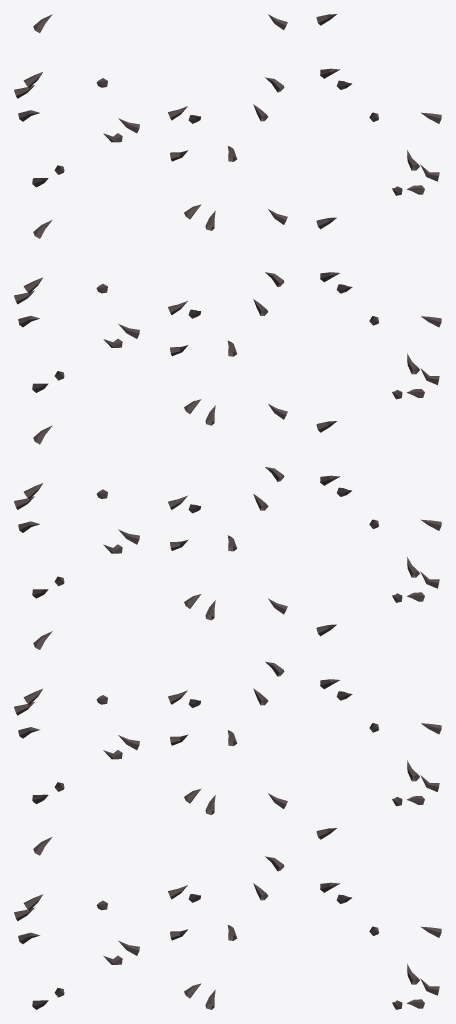
3 renders of one model, left to right at view 1: azimuth 30°, elevation 25°; view 2: azimuth 150°, elevation 25°; view 3: azimuth 330°, elevation 25°, orthographic. The views are drawn at different scales.
Visible parts, largest first — view 1: Circle2; view 2: Circle2; view 3: Circle2.
Part boxes in pixels (x1=…): Circle2: x1=14, y1=14, x2=139, y2=1009; Circle2: x1=168, y1=14, x2=287, y2=1009; Circle2: x1=316, y1=14, x2=441, y2=1009.
Size of the model in its own units: 36.02 by 325 by 26.19.
1 material, 1 textured.
